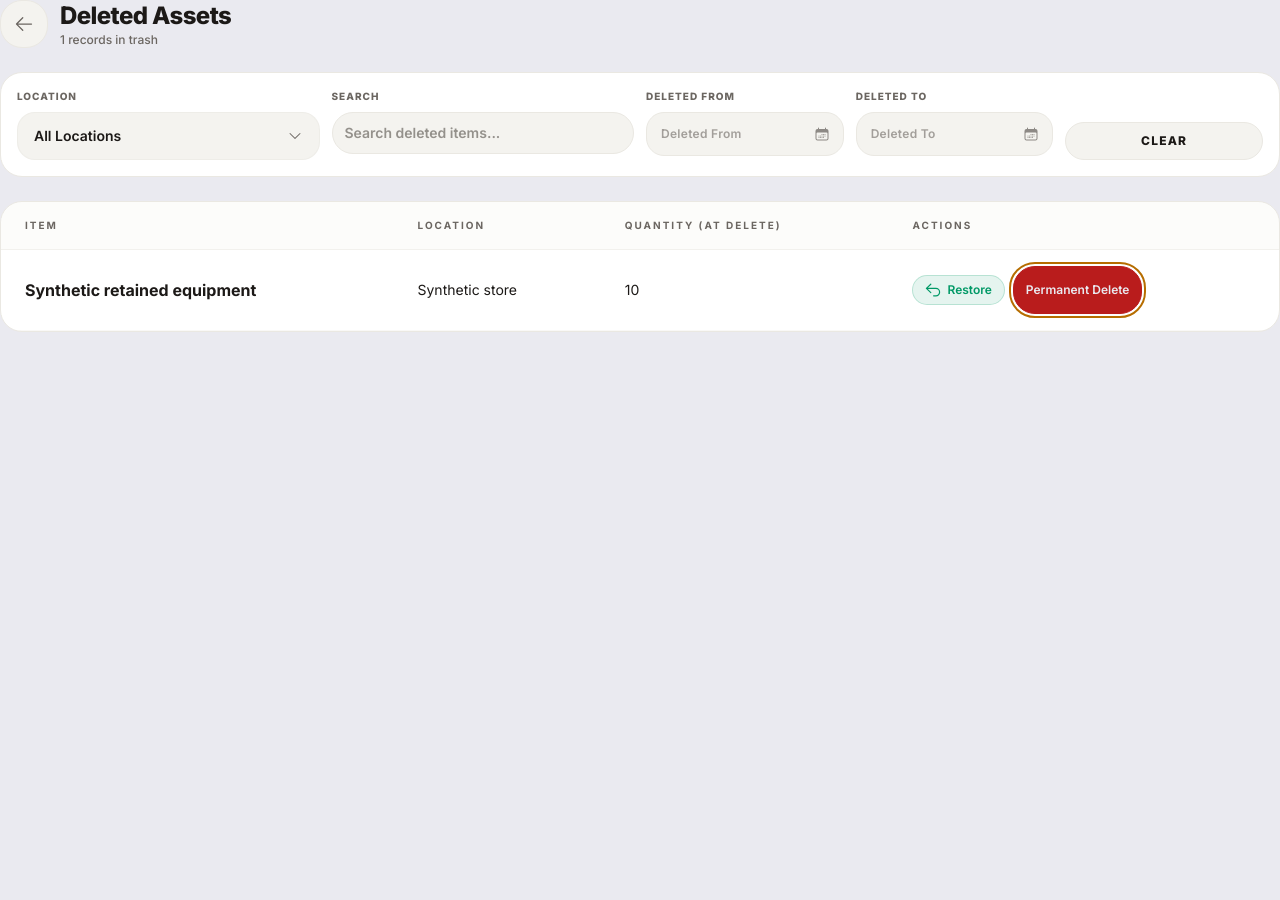
Test: permanent asset deletion recovery › retains ordinary successful deletion and refreshes the trash list
This screenshot has width=1280, height=900.
Click the button "Permanent Delete": (1078, 290) x1=1013 y1=266 x2=1142 y2=314
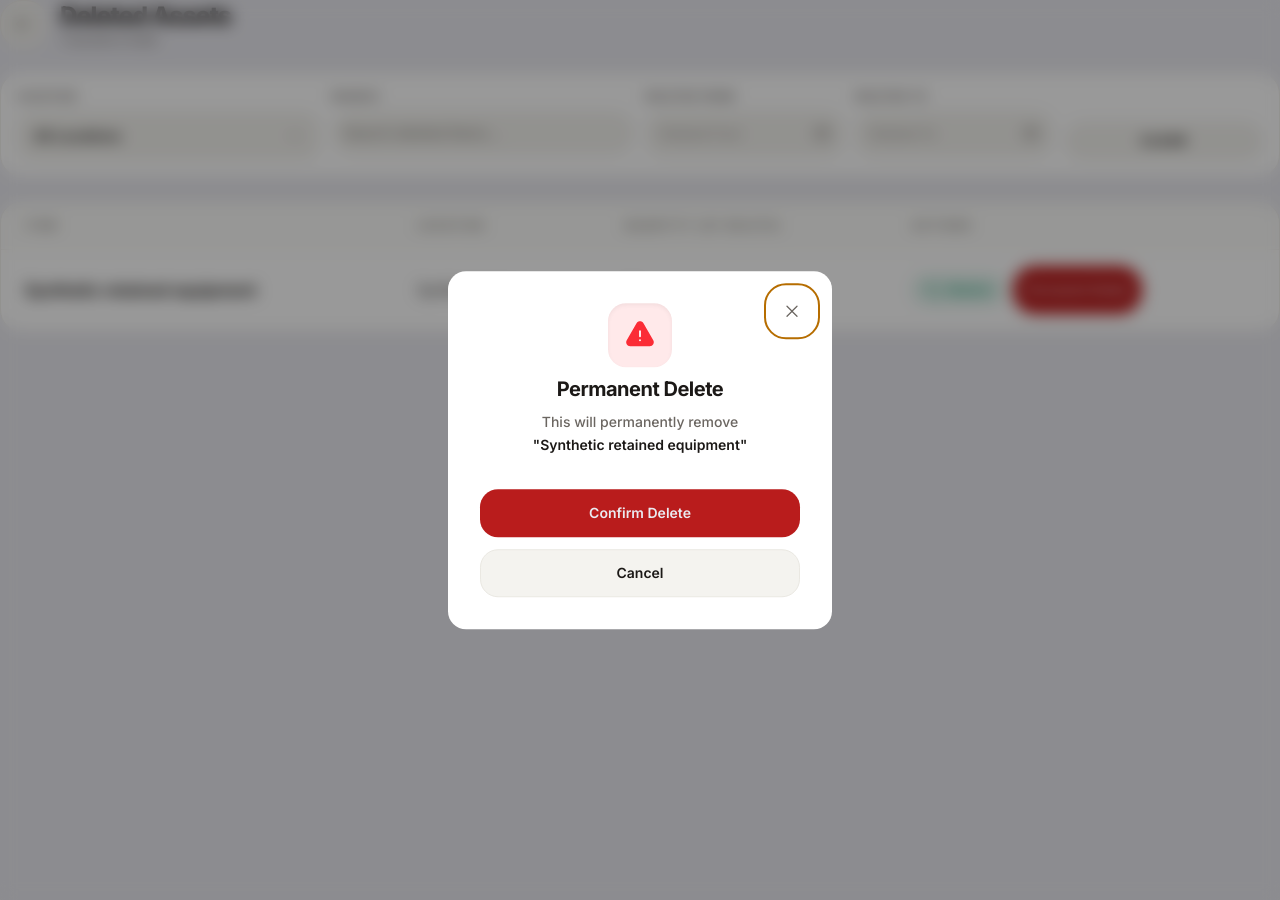
Click the button "Confirm Delete": (640, 513) x1=480 y1=489 x2=800 y2=537
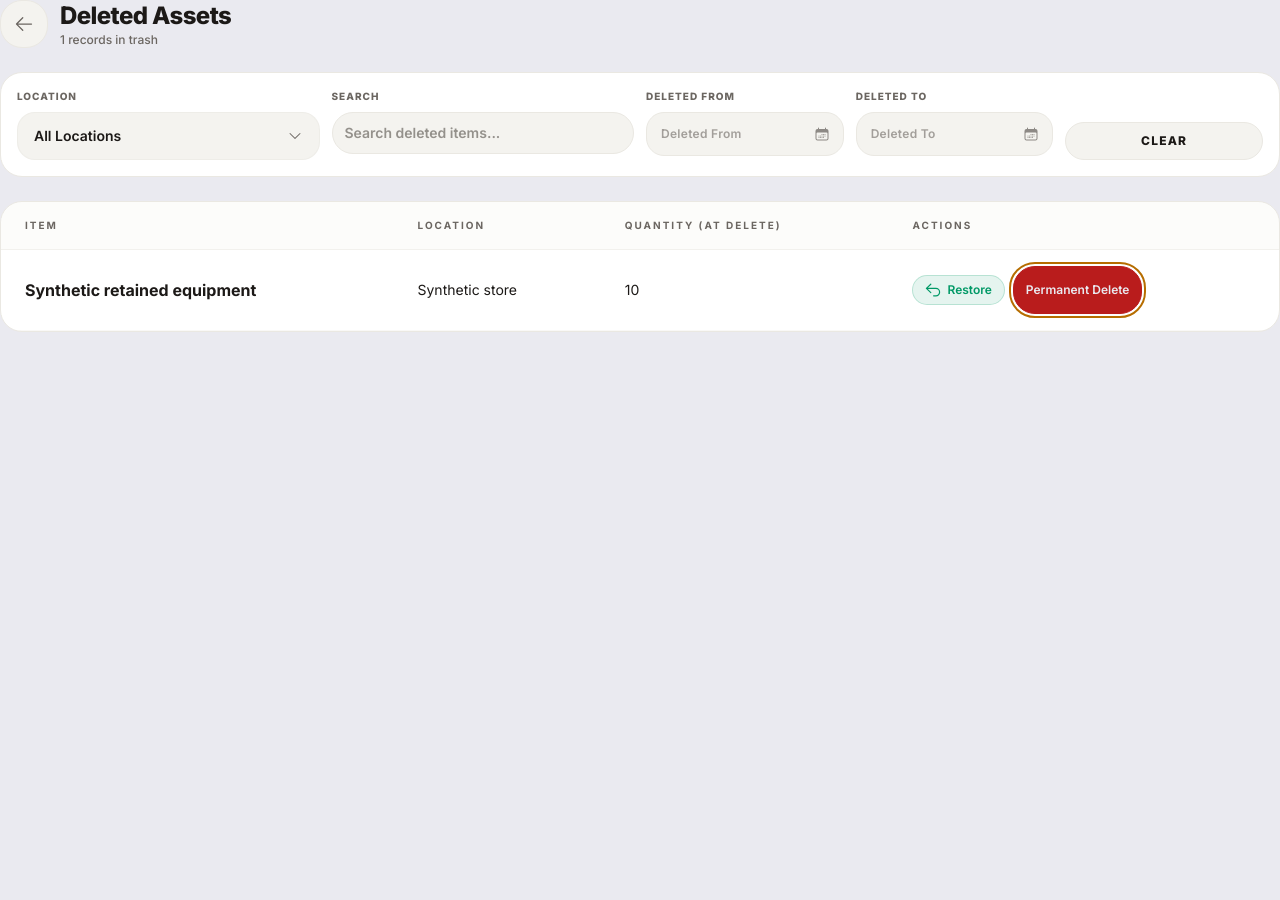
Result: the dialog is gone
